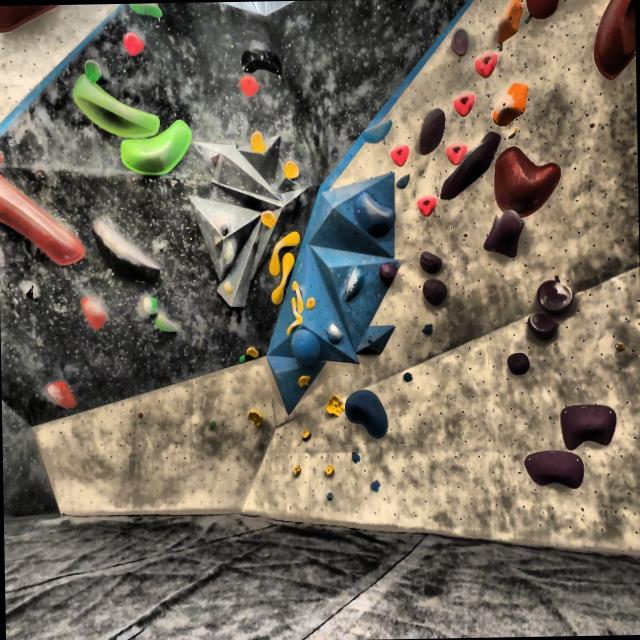Hold: (0, 167, 85, 269), (74, 75, 160, 138), (489, 145, 564, 216), (438, 130, 506, 203), (96, 220, 168, 284), (122, 118, 200, 177), (586, 0, 635, 79), (556, 401, 618, 453), (521, 448, 587, 492), (354, 186, 396, 242), (344, 388, 389, 438), (482, 208, 525, 260), (488, 80, 531, 127), (266, 228, 302, 280), (288, 327, 323, 372), (236, 45, 288, 75), (416, 107, 446, 156), (491, 0, 523, 45), (267, 255, 296, 304), (536, 276, 576, 311), (521, 310, 558, 342), (339, 262, 365, 306), (44, 380, 78, 410), (446, 22, 470, 62), (124, 2, 167, 24), (120, 29, 150, 57), (360, 117, 391, 144), (418, 281, 451, 306), (234, 72, 262, 100), (82, 294, 105, 328), (322, 386, 344, 421), (418, 245, 444, 274), (525, 0, 558, 21), (504, 348, 530, 374), (286, 294, 301, 338), (476, 52, 500, 78), (448, 137, 468, 167), (280, 156, 302, 181), (452, 94, 478, 115), (86, 60, 105, 87), (148, 314, 178, 331), (256, 207, 278, 230), (388, 142, 411, 164), (327, 316, 343, 346), (290, 278, 304, 312), (417, 192, 437, 214), (250, 131, 269, 154), (216, 216, 236, 237), (378, 260, 396, 282), (243, 342, 262, 361), (294, 375, 312, 395), (221, 244, 236, 267), (250, 410, 266, 431), (140, 296, 156, 314), (21, 280, 36, 298), (394, 173, 410, 189), (349, 446, 362, 464), (220, 277, 232, 296), (421, 320, 434, 335), (318, 466, 337, 476), (300, 428, 314, 441), (612, 340, 626, 353), (367, 480, 382, 492), (306, 298, 318, 312), (366, 332, 376, 348), (208, 420, 220, 431), (291, 465, 304, 475), (324, 491, 334, 503), (400, 372, 413, 381), (238, 355, 245, 365), (138, 412, 144, 418)
